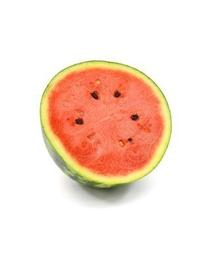watermelon: (37, 58, 173, 190)
